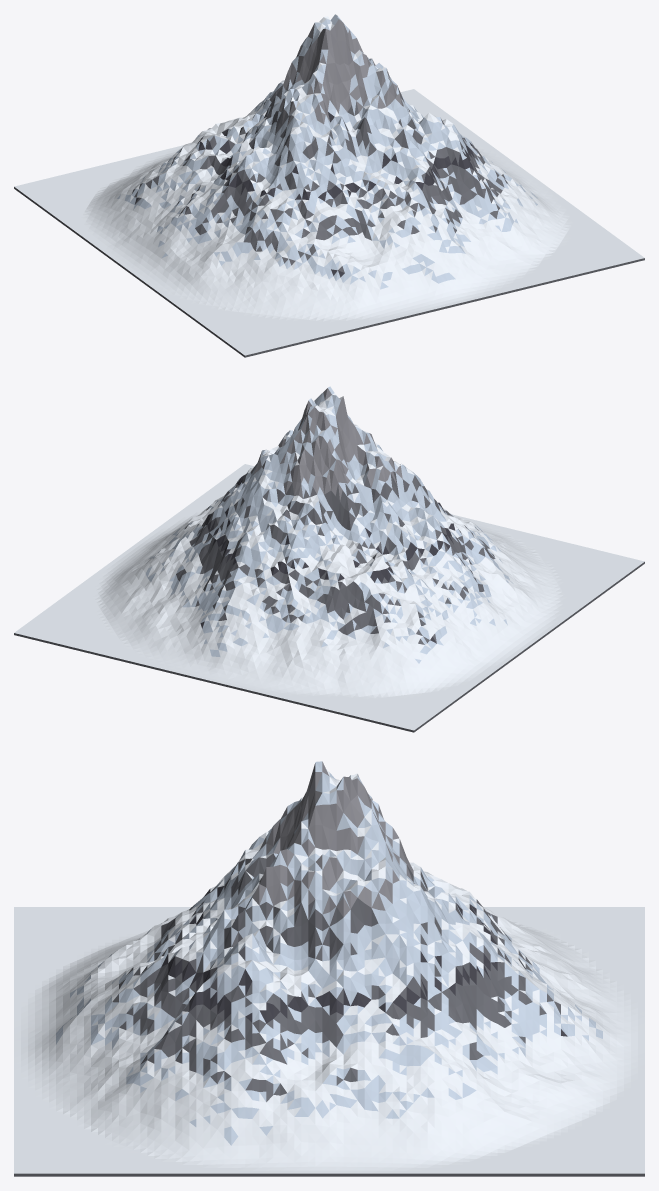
File: mountain_peak.glb
3 renders of one model, top to bottom at view 1: azimuth 30°, elevation 25°; view 2: azimuth 150°, elevation 25°; view 3: azimuth 270°, elevation 25°, orthographic. The views are drawn at different scales.
Parts seen in each view (by area): view 1: mountain_peak; view 2: mountain_peak; view 3: mountain_peak.
Boxes of the visible parts, x1,y1,x2,y2 form: mountain_peak: (14, 14, 644, 357); mountain_peak: (14, 386, 644, 732); mountain_peak: (14, 761, 644, 1176).
Bounding box in the file's own units: 600 × 299 × 600.
Materials: 1 (1 with a texture image).
